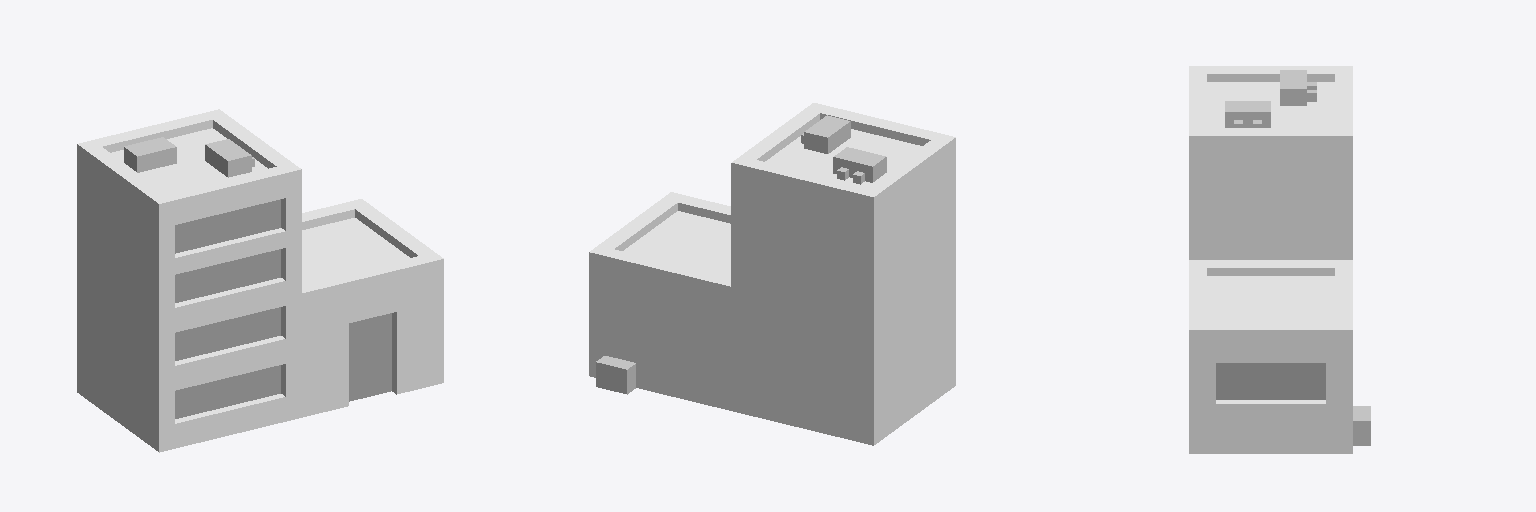
3 renders of one model, left to right at view 1: azimuth 30°, elevation 25°; view 2: azimuth 150°, elevation 25°; view 3: azimuth 270°, elevation 25°, orthographic.
Parts seen in each view (by area): view 1: object 1; view 2: object 1; view 3: object 1.
Part boxes in pixels (x1,y1,x2,y2): object 1: (77, 109, 443, 452); object 1: (589, 103, 955, 445); object 1: (1189, 66, 1370, 453).
Bounding box in the file's own units: 3.6 × 3.1 × 2.
Materials: 1 (1 with a texture image).